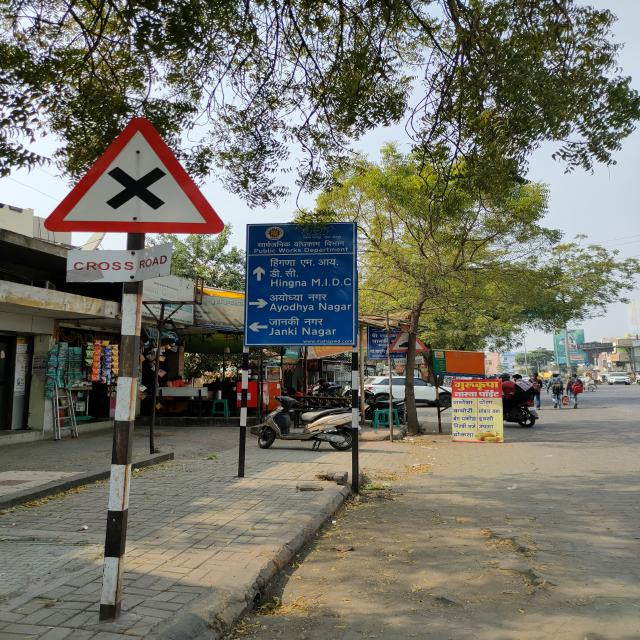cross_road: (43, 114, 224, 238)
